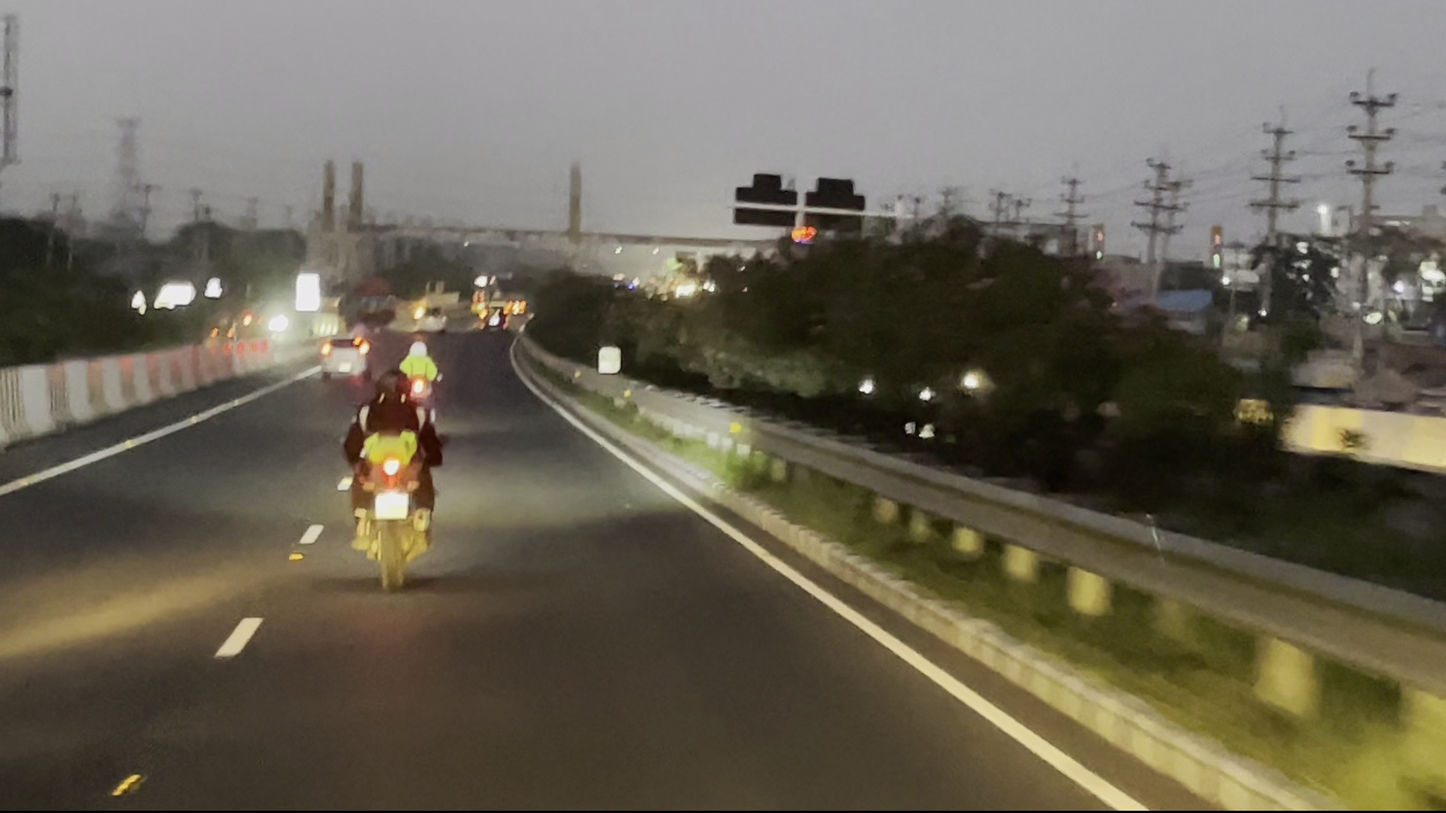car: (315, 330, 371, 384)
motorbike: (333, 361, 451, 590), (392, 335, 448, 430)
